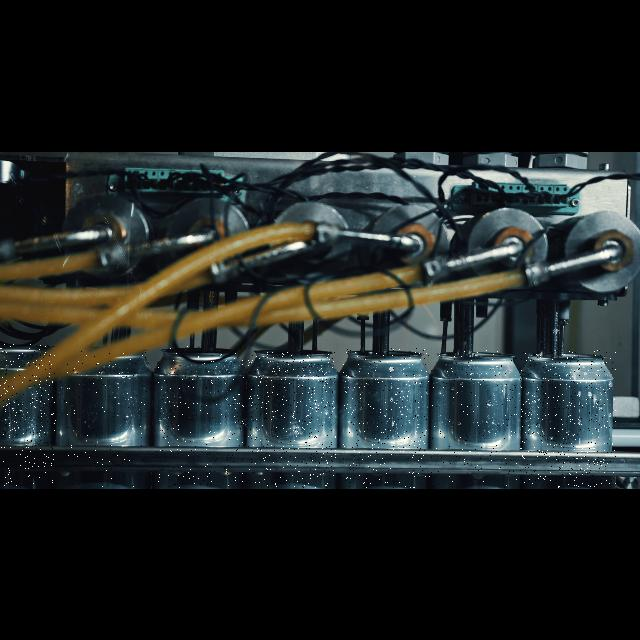empty: (520, 350, 616, 488), (156, 346, 244, 488), (427, 350, 517, 488), (59, 350, 147, 488), (248, 352, 336, 488), (343, 348, 427, 488), (0, 344, 56, 488)
